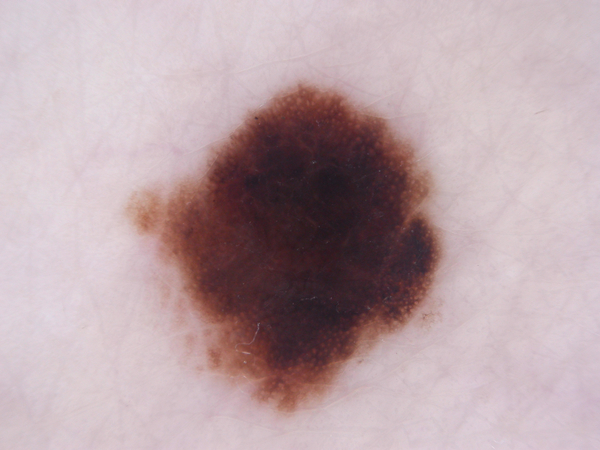Detected Lesion: (123, 72, 446, 416)
